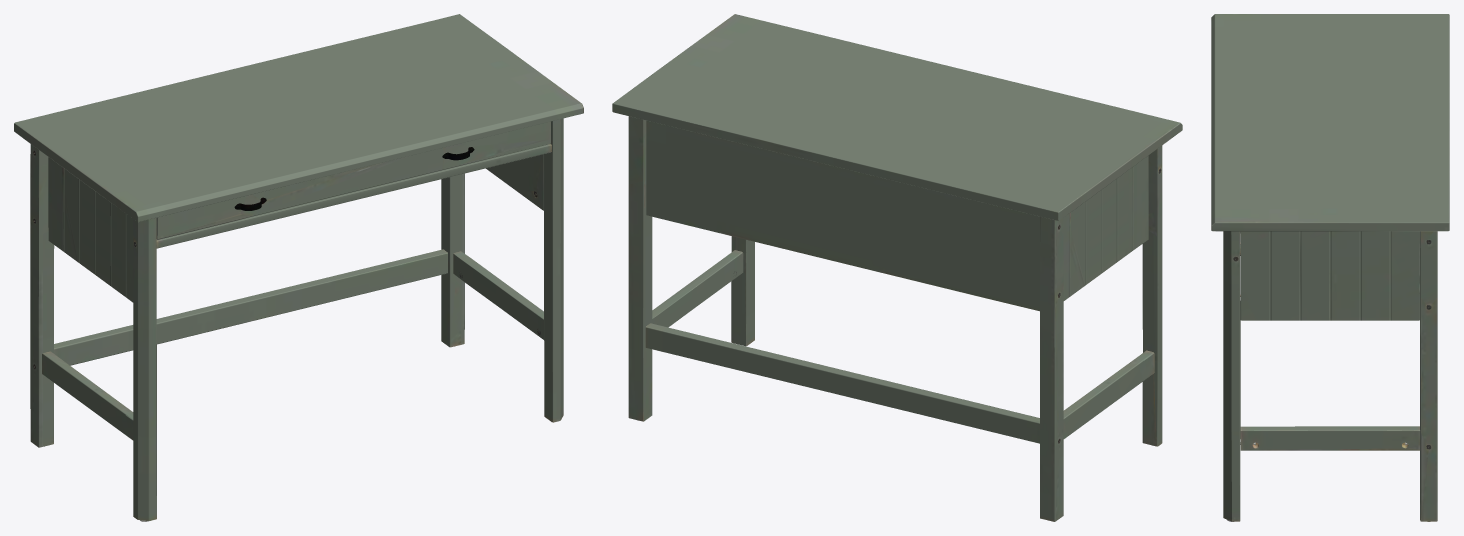
3 renders of one model, left to right at view 1: azimuth 30°, elevation 25°; view 2: azimuth 150°, elevation 25°; view 3: azimuth 270°, elevation 25°, orthographic. The views are drawn at different scales.
Parts seen in each view (by area): view 1: ASY_ART_50609750_S01_NV01; view 2: ASY_ART_50609750_S01_NV01; view 3: ASY_ART_50609750_S01_NV01.
Part boxes in pixels (x1,y1,x2,y2): ASY_ART_50609750_S01_NV01: [14, 14, 583, 521]; ASY_ART_50609750_S01_NV01: [612, 14, 1182, 521]; ASY_ART_50609750_S01_NV01: [1211, 14, 1449, 521].
Size of the model in its own units: 1.1 by 0.7502 by 0.5298.
1 material, 1 textured.
